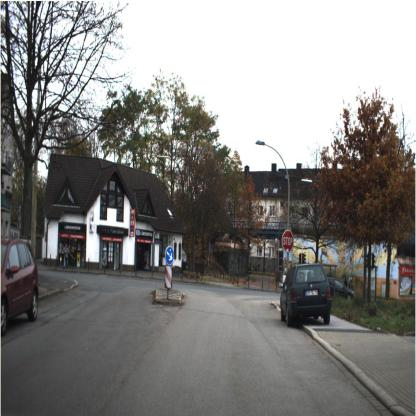mandatory: (164, 245, 176, 270)
other: (276, 223, 296, 257)
